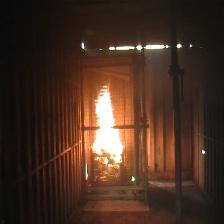fire: (88, 83, 124, 173)
